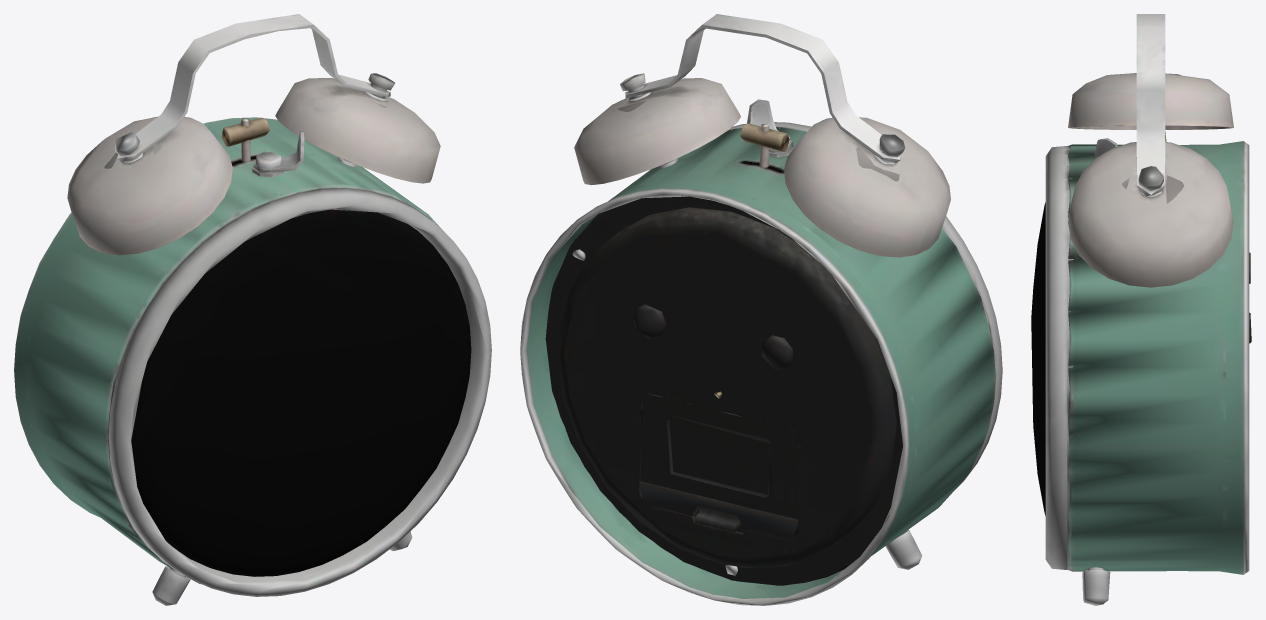
File: alarm_clock_01.glb
3 views of the same model, side by side, from view 1: azimuth 30°, elevation 25°; view 2: azimuth 150°, elevation 25°; view 3: azimuth 270°, elevation 25° (orthographic). The views are drawn at different scales.
Visible parts, largest first — view 1: alarm_clock_01; view 2: alarm_clock_01; view 3: alarm_clock_01.
Part boxes in pixels (left/top/right/bottom): alarm_clock_01: left=14, top=14, right=491, bottom=605; alarm_clock_01: left=520, top=14, right=1002, bottom=605; alarm_clock_01: left=1031, top=14, right=1251, bottom=605.
Bounding box in the file's own units: 0.1312 × 0.1738 × 0.0666.
2 materials, 2 textured.
